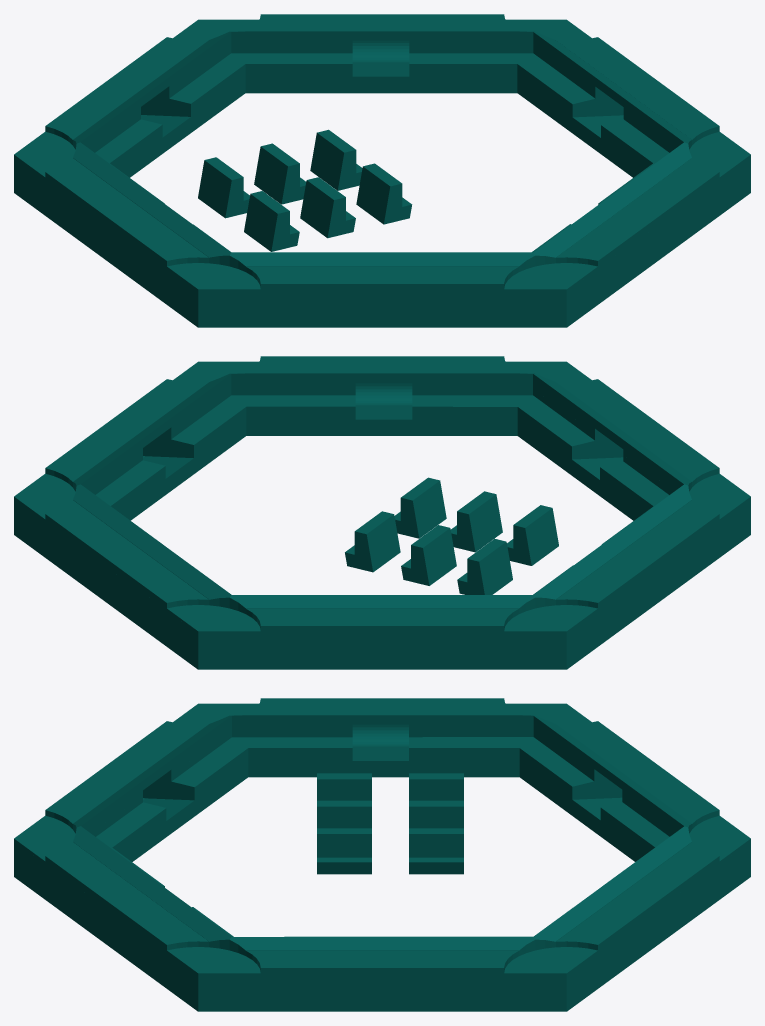
The model's file is base_water.glb.
3 views of the same model, one above another, from view 1: azimuth 30°, elevation 25°; view 2: azimuth 150°, elevation 25°; view 3: azimuth 270°, elevation 25° (orthographic).
Parts seen in each view (by area): view 1: base_water; view 2: base_water; view 3: base_water.
Part boxes in pixels (box(x1,y1,x2,y2)): base_water: box(14, 14, 750, 327); base_water: box(14, 356, 750, 669); base_water: box(14, 698, 750, 1011).
Bounding box in the file's own units: 79 × 6.95 × 91.22.
